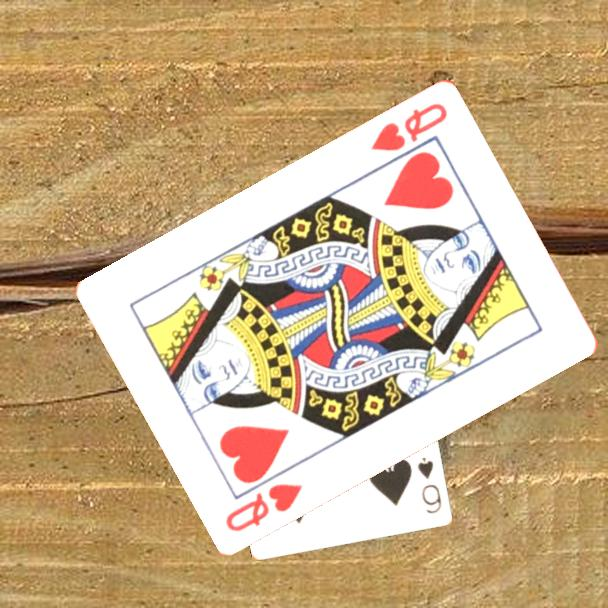h12: (367, 98, 451, 154), (222, 479, 306, 534)
s06: (414, 454, 445, 517)
